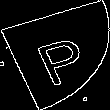P_N: (21, 25, 89, 85)
